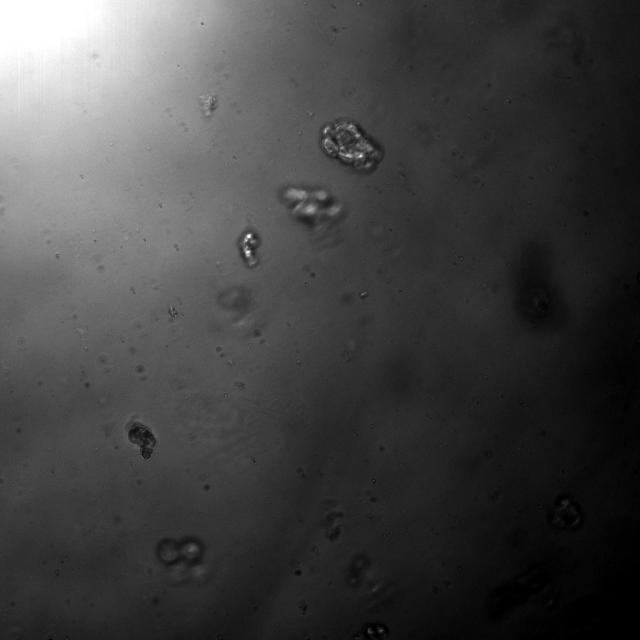organoid: (319, 117, 383, 172), (280, 185, 344, 229), (156, 536, 204, 565), (127, 420, 157, 459), (237, 229, 261, 267)
